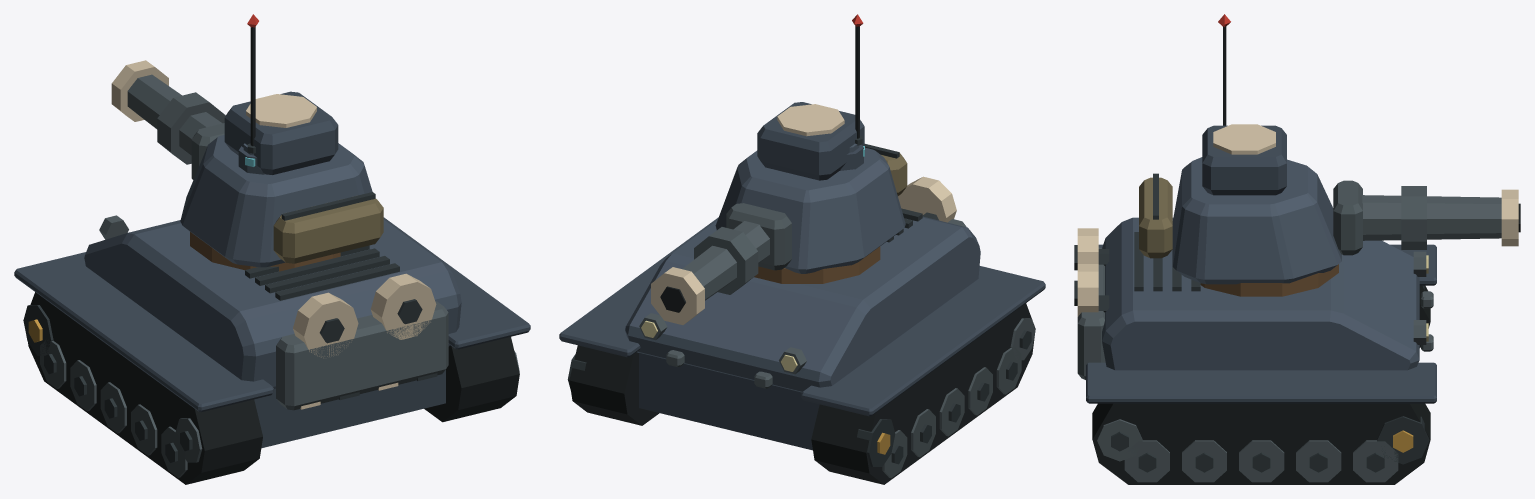
The picture shows the model from 3 angles, left to right: view 1: azimuth 30°, elevation 25°; view 2: azimuth 150°, elevation 25°; view 3: azimuth 270°, elevation 25°; orthographic projection. The views are drawn at different scales.
Parts seen in each view (by area): view 1: hull_05, turret_05; view 2: hull_05, turret_05; view 3: hull_05, turret_05.
Boxes of the visible parts, <box> form: hull_05: <box>14,215,530,484</box>; turret_05: <box>111,14,383,271</box>; hull_05: <box>559,176,1045,484</box>; turret_05: <box>651,14,907,324</box>; hull_05: <box>1074,217,1436,484</box>; turret_05: <box>1139,14,1520,296</box>.
Bounding box in the file's own units: 0.855 × 0.9938 × 1.06.
